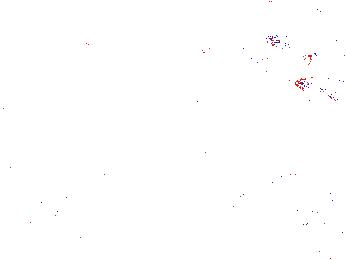X-ray fish: (50, 124, 69, 171)
glassfish: (117, 135, 227, 208)
redtail glassfish: (195, 43, 261, 73), (263, 32, 331, 59), (295, 74, 346, 95)
